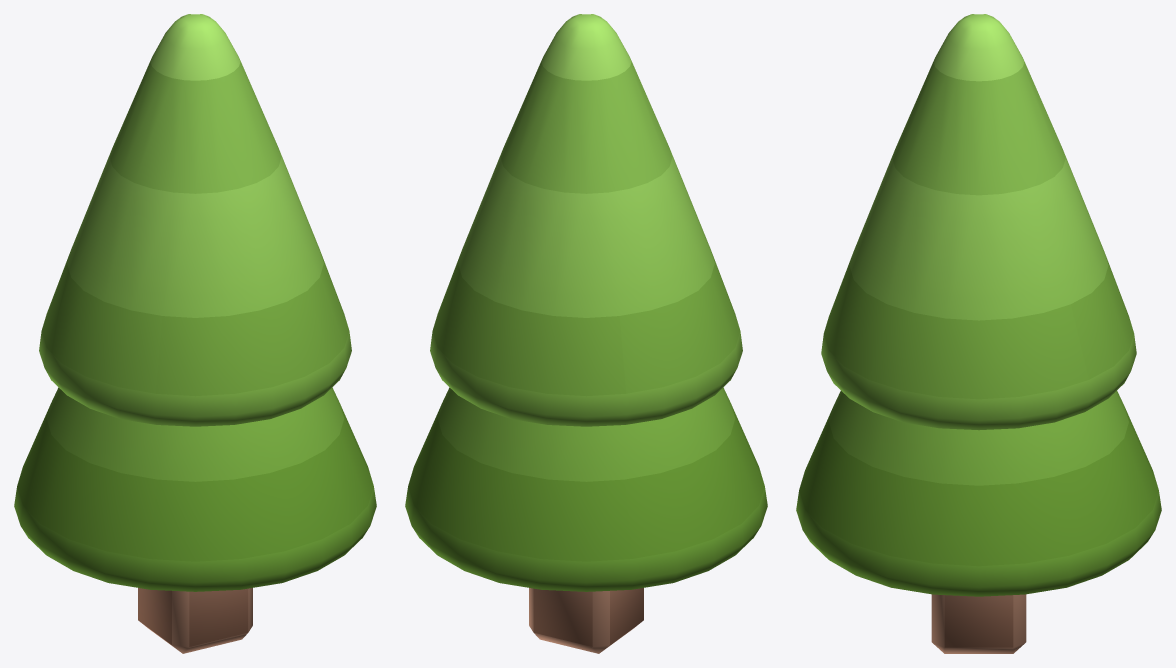
Rendered from tree_3.fbx.
3 views of the same model, side by side, from view 1: azimuth 30°, elevation 25°; view 2: azimuth 150°, elevation 25°; view 3: azimuth 270°, elevation 25° (orthographic).
Parts seen in each view (by area): view 1: tree_3; view 2: tree_3; view 3: tree_3.
Boxes of the visible parts, box(x1,y1,x2,y2) form: tree_3: box(14, 14, 376, 653); tree_3: box(405, 14, 767, 653); tree_3: box(796, 14, 1161, 653).
Bounding box in the file's own units: 113 × 212 × 113.
